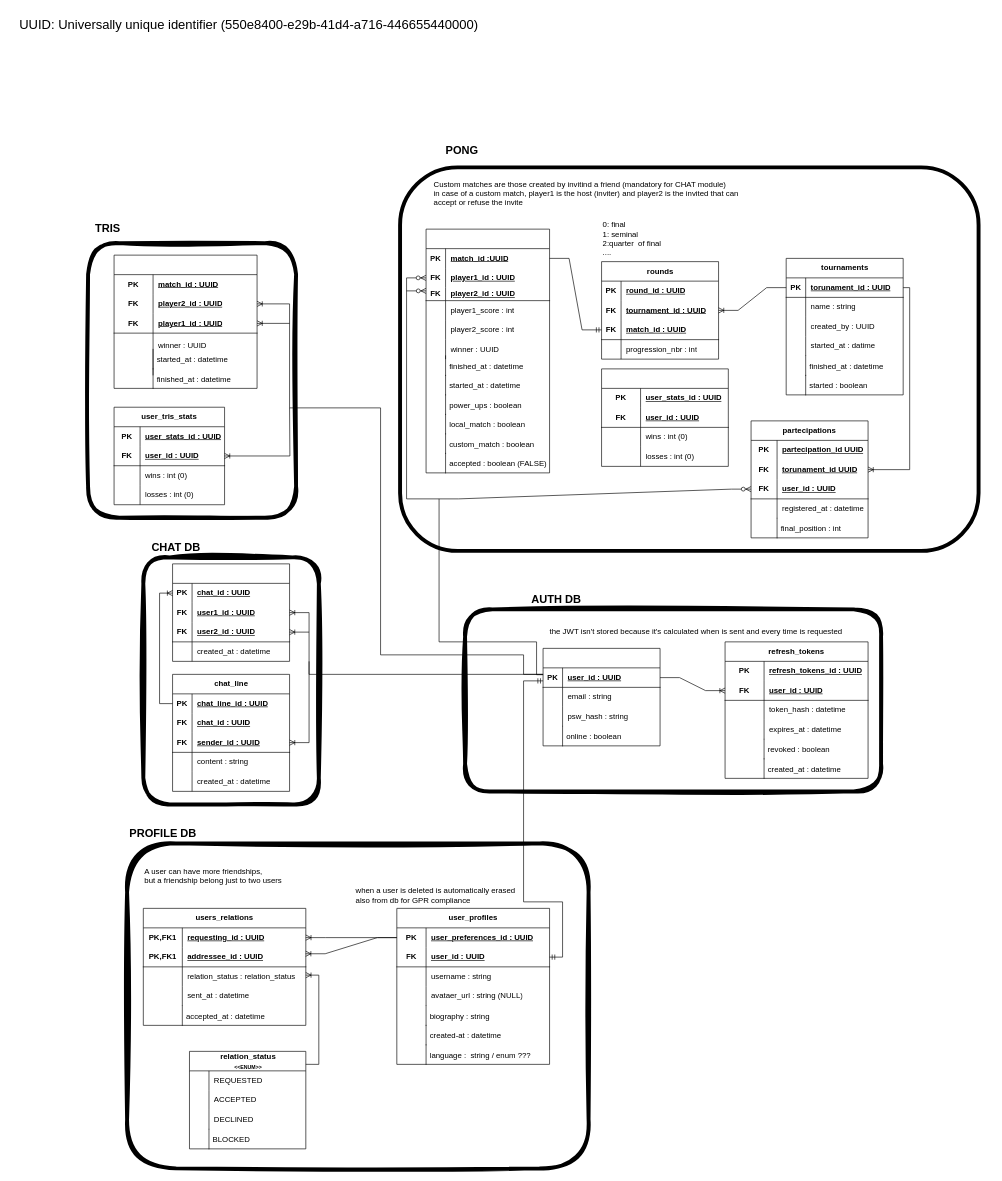
The diagram is 1002 pixels wide and 1181 high, and some of its shapes have lost their labels. Here are the shapes that lost their labels. From the top down, the box of each, then its label:
(113, 254, 257, 388): Table
(425, 228, 550, 473): matches
(601, 368, 728, 466): user_pong_stats
(172, 563, 290, 661): chats
(542, 648, 660, 746): users
